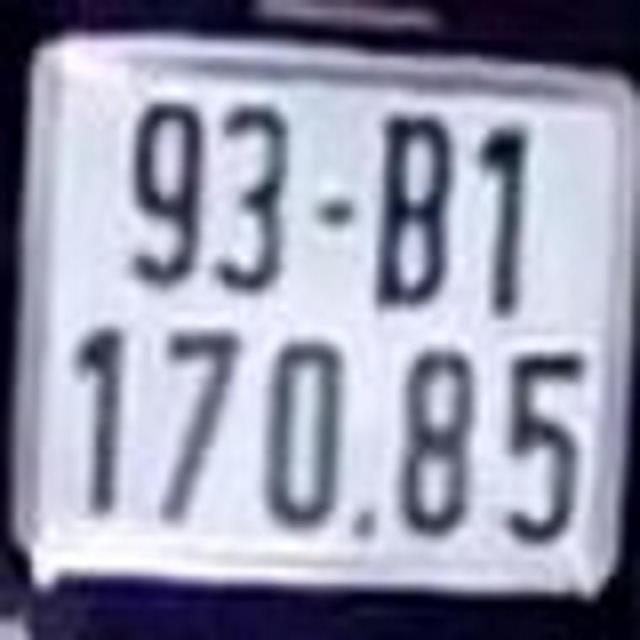0: (257, 317, 343, 530)
1: (472, 106, 534, 319), (70, 312, 134, 517)
3: (210, 76, 290, 300)
5: (502, 335, 581, 547)
7: (162, 311, 233, 513)
8: (398, 334, 477, 544)
9: (128, 86, 205, 284)
B: (370, 96, 452, 309)
